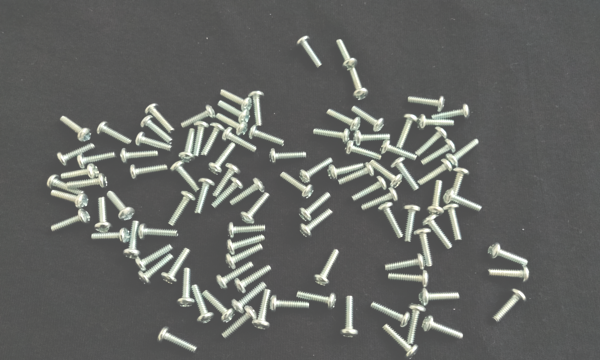shortscrew: (489, 288, 528, 324), (381, 324, 419, 360), (153, 327, 198, 356), (221, 305, 258, 340), (231, 281, 267, 315), (137, 253, 174, 286), (422, 213, 453, 249), (370, 301, 411, 328), (235, 265, 273, 294), (216, 261, 254, 290), (49, 208, 91, 234), (202, 290, 235, 323), (414, 126, 448, 158), (390, 157, 420, 193), (487, 242, 530, 267), (421, 315, 464, 340), (161, 248, 190, 285), (241, 191, 272, 225), (300, 209, 334, 240), (134, 244, 173, 271), (139, 114, 174, 144), (417, 158, 453, 187), (56, 141, 96, 167), (168, 191, 196, 228), (225, 243, 263, 270), (298, 192, 332, 222), (278, 172, 314, 200), (443, 189, 483, 214), (144, 103, 175, 135), (170, 160, 200, 193), (314, 249, 340, 287), (420, 139, 458, 165), (447, 138, 482, 166), (298, 157, 334, 184), (350, 106, 386, 133), (351, 176, 388, 202), (58, 114, 91, 143), (361, 186, 399, 211), (192, 283, 215, 324), (96, 121, 133, 146), (221, 127, 258, 152), (208, 141, 236, 174), (252, 289, 274, 330), (106, 190, 135, 221), (180, 104, 217, 128), (337, 162, 374, 186), (379, 202, 403, 239), (296, 34, 322, 68), (217, 100, 251, 126), (324, 109, 362, 132), (447, 167, 471, 203), (47, 174, 84, 197), (200, 122, 225, 156), (406, 303, 426, 345), (413, 228, 434, 268), (372, 161, 403, 188), (194, 177, 216, 215), (379, 140, 417, 162), (249, 124, 285, 147), (385, 253, 426, 273), (176, 267, 196, 308), (225, 234, 264, 255), (340, 296, 359, 339), (66, 173, 108, 192), (215, 113, 248, 137), (219, 89, 253, 112), (296, 290, 337, 309), (49, 190, 90, 209), (138, 223, 179, 242), (135, 132, 172, 153), (77, 150, 117, 169), (388, 269, 430, 287), (346, 140, 382, 161), (487, 266, 531, 283), (418, 289, 462, 306), (61, 163, 100, 182), (122, 221, 141, 260), (432, 102, 471, 121), (227, 220, 266, 239), (402, 203, 421, 242), (397, 114, 418, 149), (269, 147, 307, 166), (444, 203, 463, 241), (346, 69, 369, 100), (270, 294, 309, 312), (312, 127, 351, 145), (90, 227, 131, 244), (121, 147, 159, 165), (130, 164, 168, 182), (409, 95, 447, 113), (336, 39, 358, 70), (178, 127, 197, 162), (426, 180, 445, 215), (249, 89, 266, 127), (328, 163, 366, 180), (94, 197, 112, 232), (417, 114, 455, 130), (193, 120, 209, 157), (354, 130, 391, 146)
